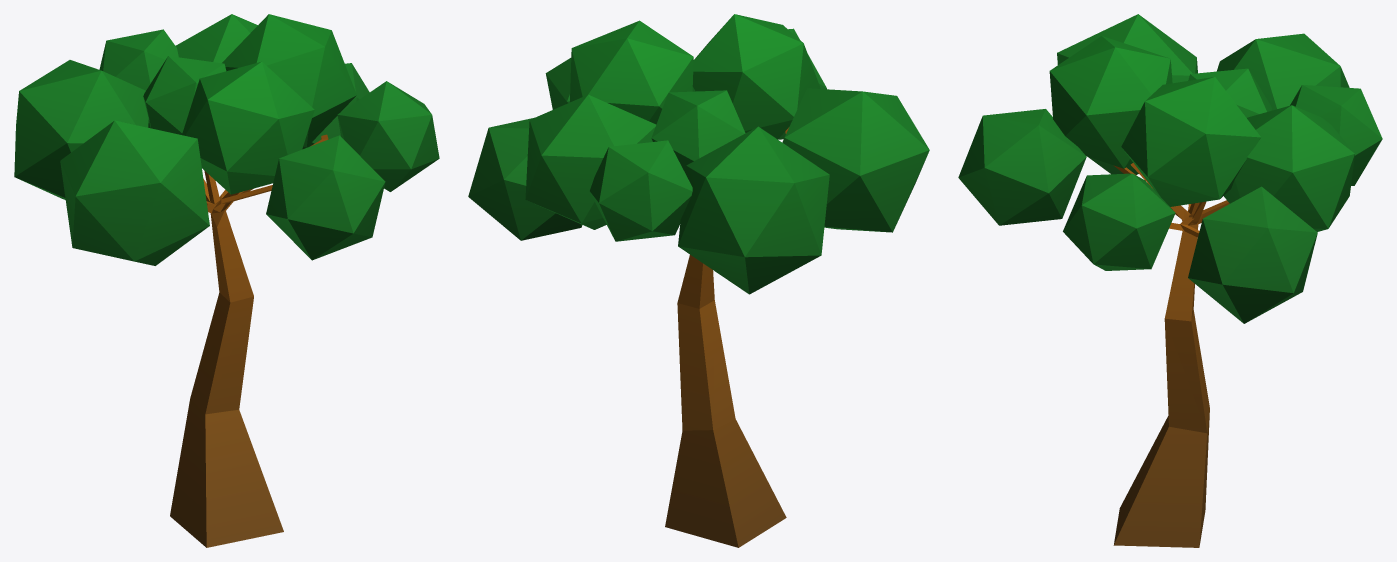
The model's file is Tree_4.fbx.
The picture shows the model from 3 angles, left to right: view 1: azimuth 30°, elevation 25°; view 2: azimuth 150°, elevation 25°; view 3: azimuth 270°, elevation 25°; orthographic projection. The views are drawn at different scales.
Visible parts, largest first — view 1: Tree_4; view 2: Tree_4; view 3: Tree_4.
Part boxes in pixels (left/top/right/bottom): Tree_4: left=14, top=14, right=439, bottom=547; Tree_4: left=468, top=14, right=929, bottom=547; Tree_4: left=958, top=14, right=1382, bottom=547.
Size of the model in its own units: 653 by 807 by 637.
